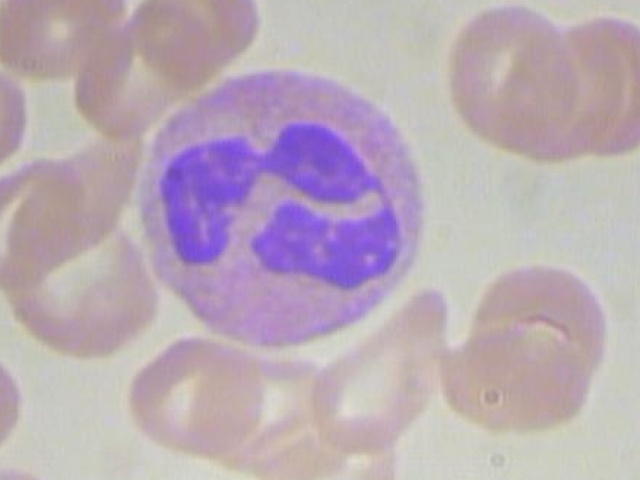RBC: (304, 286, 455, 455), (438, 0, 586, 157), (430, 307, 600, 435), (121, 322, 268, 462), (0, 148, 91, 293), (0, 0, 132, 85), (134, 0, 277, 69), (0, 52, 33, 193), (0, 335, 30, 472), (0, 455, 75, 480), (633, 456, 640, 480)
WBC: (124, 58, 439, 357)
